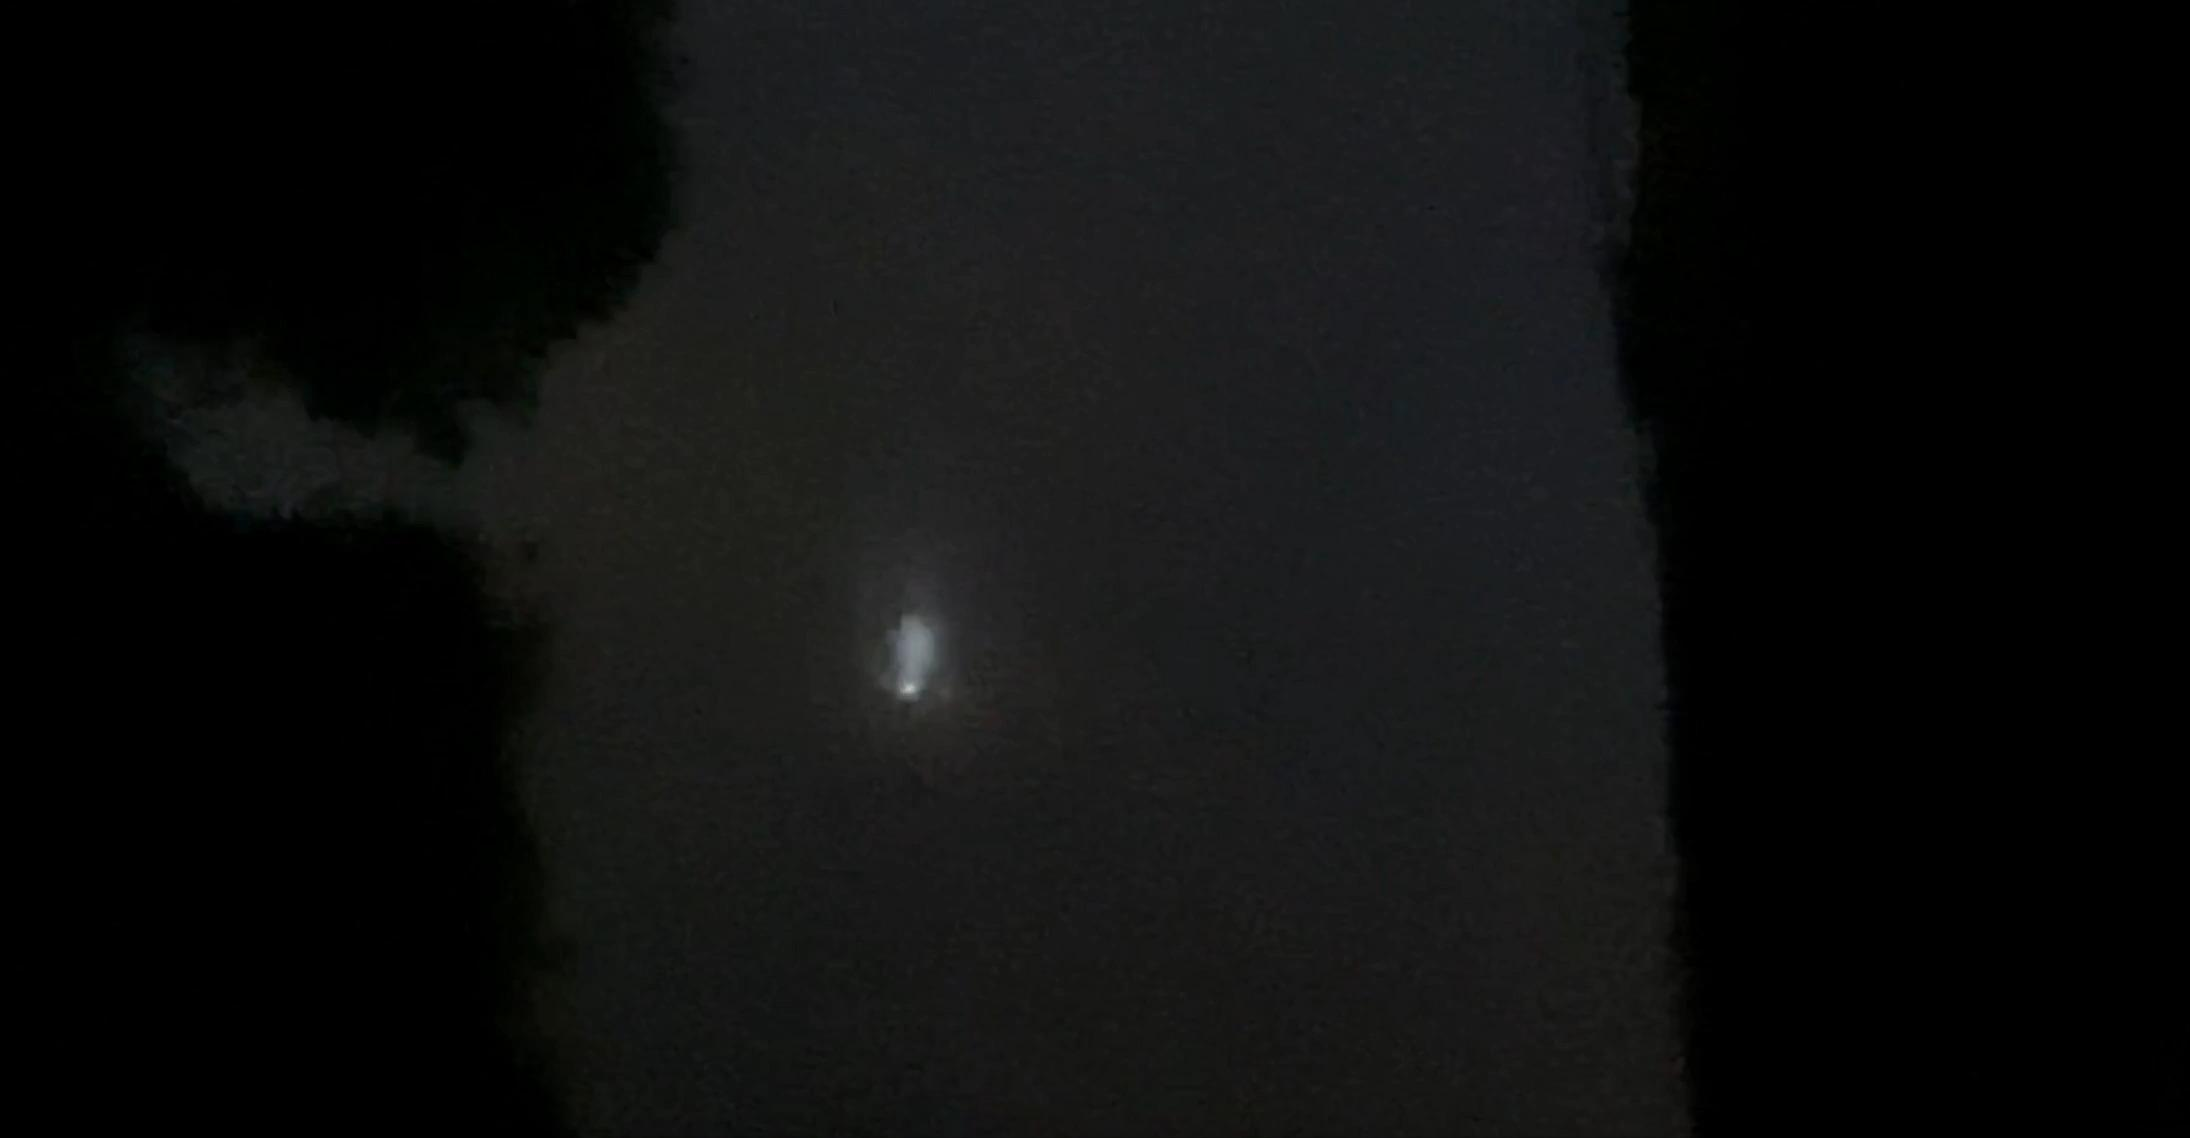Plane: (856, 541, 1001, 756)
